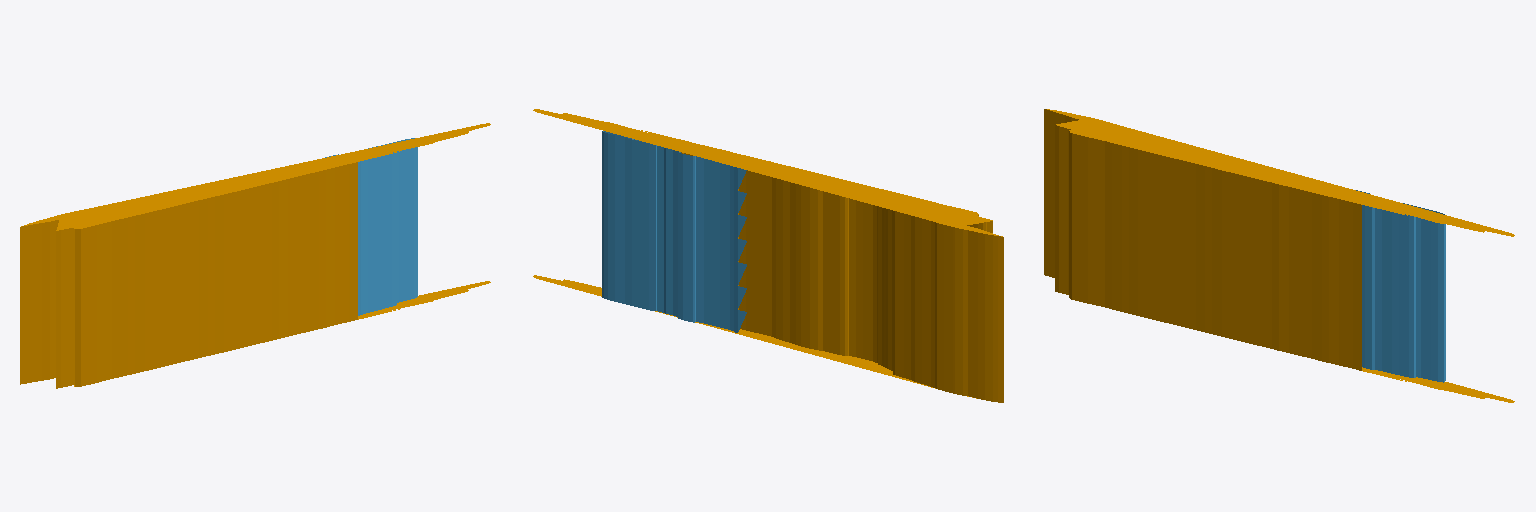
robot.urdf — pipette_articulated:
<?xml version="1.0"?>
<robot name="pipette_articulated">
  <!-- Base link: main pipette body -->
  <link name="base_link">
    <inertial>
      <origin xyz="0 0 0" rpy="0 0 0"/>
      <mass value="0.120000"/>
      <inertia ixx="0.00007625" ixy="0" ixz="0" iyy="0.00073789" iyz="0" izz="0.00066964"/>
    </inertial>
    <visual>
      <origin xyz="0 0 0" rpy="0 0 0"/>
      <geometry><mesh filename="pipette_base.obj" scale="1 1 1"/></geometry>
    </visual>
    <collision>
      <origin xyz="0 0 0" rpy="0 0 0"/>
      <geometry><mesh filename="pipette_base_collision.obj" scale="1 1 1"/></geometry>
    </collision>
  </link>
  <!-- Plunger link: sliding button -->
  <link name="plunger_link">
    <inertial>
      <origin xyz="0 0 0" rpy="0 0 0"/>
      <mass value="0.030000"/>
      <inertia ixx="0.00001829" ixy="0" ixz="0" iyy="0.00003374" iyz="0" izz="0.00001590"/>
    </inertial>
    <visual>
      <origin xyz="0 0 0" rpy="0 0 0"/>
      <geometry><mesh filename="pipette_plunger.obj" scale="1 1 1"/></geometry>
    </visual>
    <collision>
      <origin xyz="0 0 0" rpy="0 0 0"/>
      <geometry><mesh filename="pipette_plunger_collision.obj" scale="1 1 1"/></geometry>
    </collision>
  </link>
  <!-- Prismatic joint: plunger slides along X axis -->
  <joint name="plunger_joint" type="prismatic">
    <parent link="base_link"/>
    <child link="plunger_link"/>
    <origin xyz="0.091746 0.000000 0.000000" rpy="0 0 0"/>
    <axis xyz="1 0 0"/>
    <limit lower="0" upper="0.0300" effort="10" velocity="0.1"/>
    <dynamics damping="5.0" friction="2.0"/>
  </joint>
</robot>

--- Render facts (derived) ---
Views: 3 orthographic renders of the robot side by side, from view 1: azimuth 30°, elevation 25°; view 2: azimuth 150°, elevation 25°; view 3: azimuth 330°, elevation 25°.
Robot: pipette_articulated — 2 links, 1 joints (1 prismatic); root link base_link; default pose: every joint at zero.
Links seen in each view (by area): view 1: base_link, plunger_link; view 2: base_link, plunger_link; view 3: base_link, plunger_link.
Boxes of the visible links, x1,y1,x2,y2 form: base_link: (20,123,490,388); plunger_link: (325,138,417,315); base_link: (533,109,1003,402); plunger_link: (602,131,746,332); base_link: (1044,109,1514,402); plunger_link: (1356,190,1445,382).
Bounding box of the posed robot: 0.258 × 0.02 × 0.0851 m (x, y, z).
Meshes: 2 distinct files referenced, 2 mesh visuals loaded (2 OBJ).
